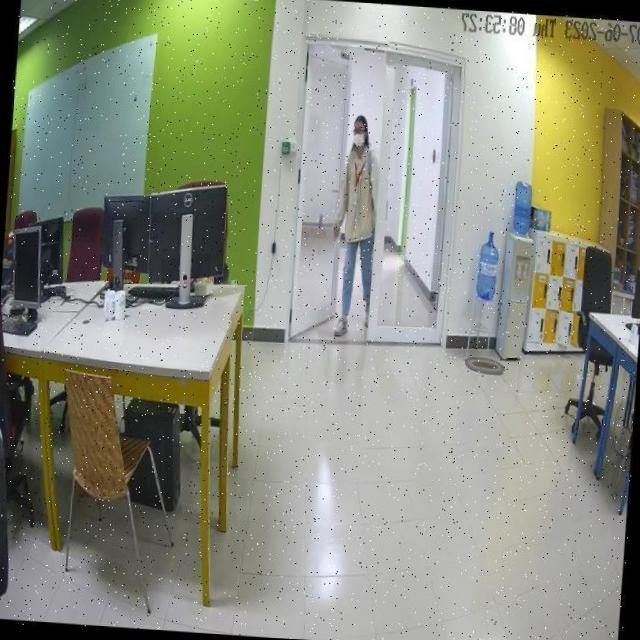person: (329, 112, 384, 342)
